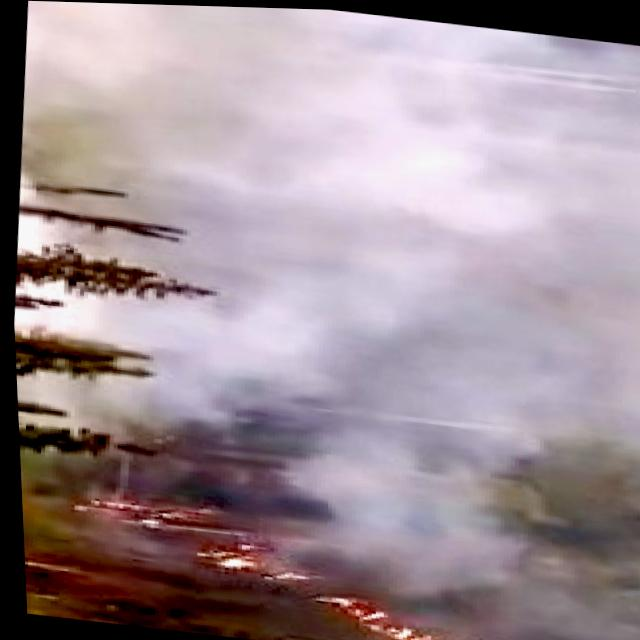smoke: (230, 5, 640, 429)
